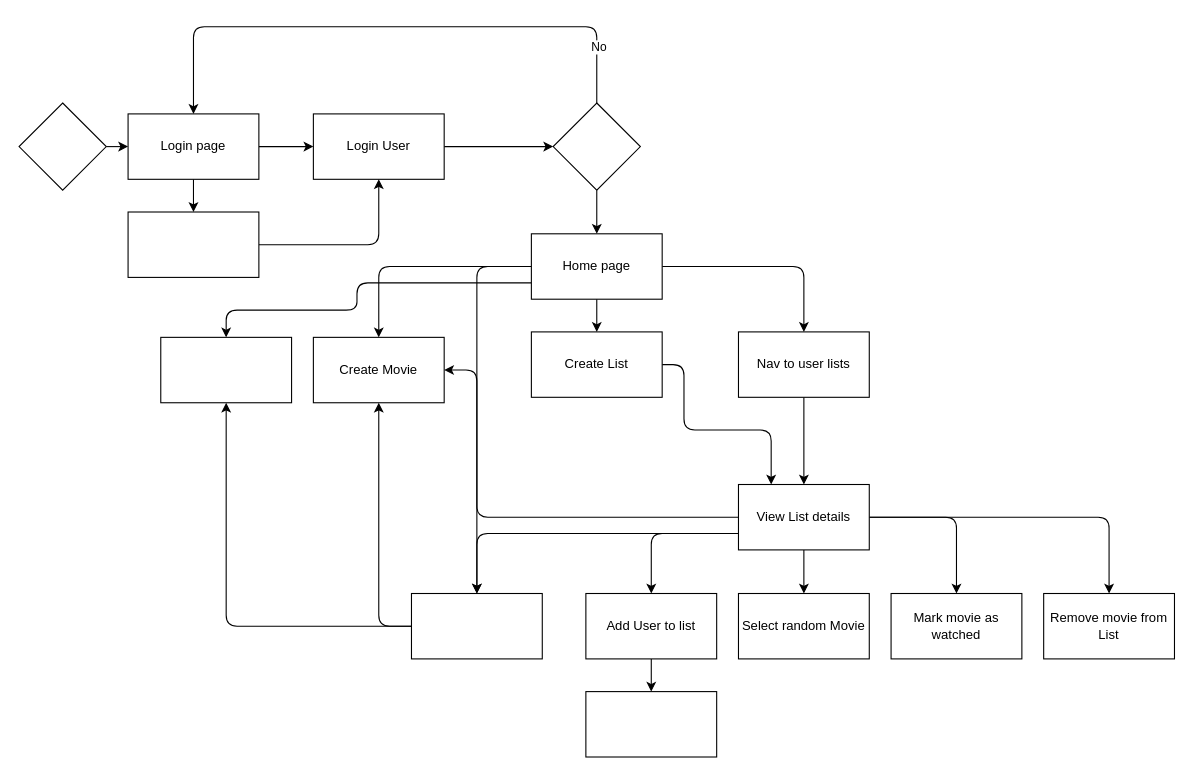
Some shapes in this 1194 by 776 pixel diagram are drawn without their labels. Each missing label, with the centre of its shape:
Add Movie to list: the point at 476,625
Login Successfull: the point at 596,146
Register New user: the point at 193,244
Search movie: the point at 226,369
Search user: the point at 651,724
Start: the point at 62,146
